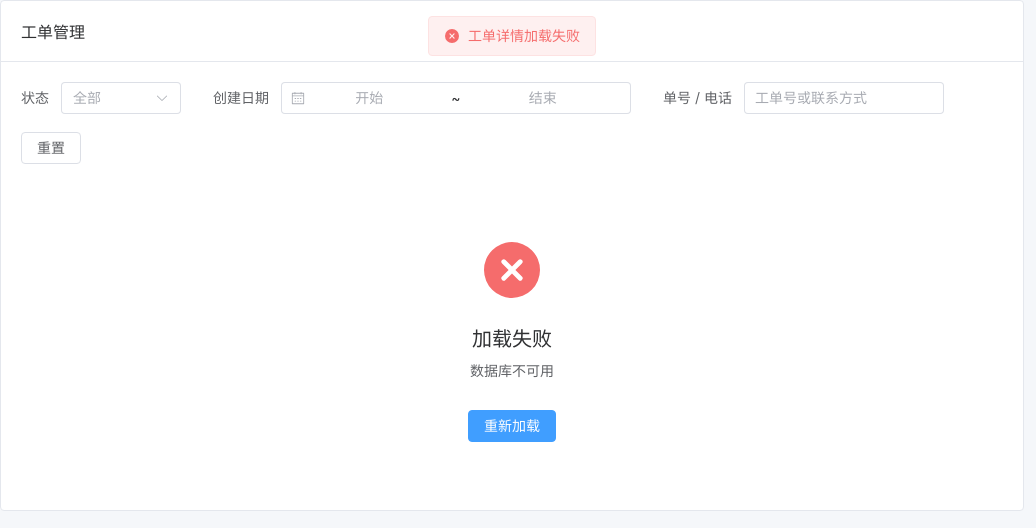
Test case: TicketList › 列表加载失败进入错误态，重试后表格恢复
What coordinates should you click on to do the following:
click the button "重新加载"
I would click on:
 (512, 426)
Its box is [468, 410, 556, 442].
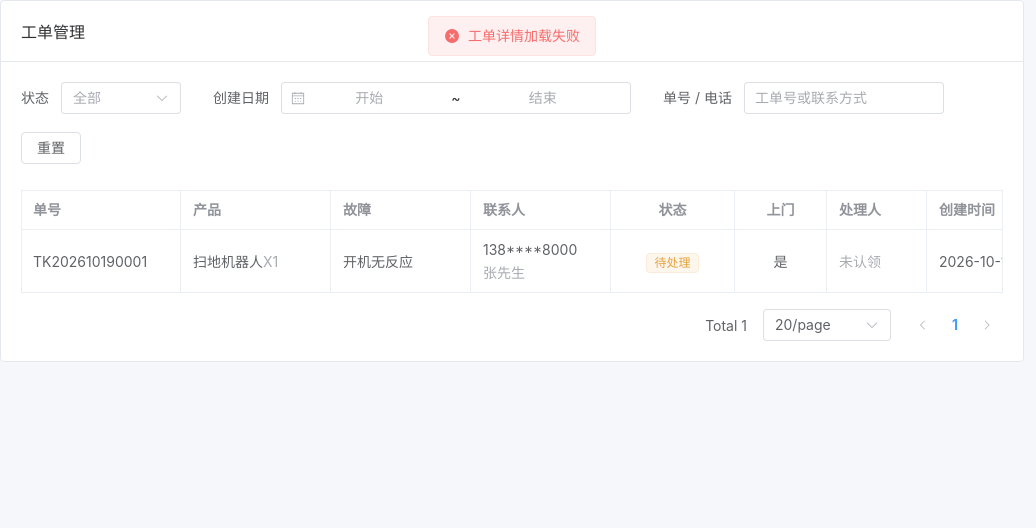
Check: the element that starts with "联系人" is shown, box [21, 190, 1003, 293]
Check: the text "TK202610190001" is shown, box [33, 252, 147, 270]
